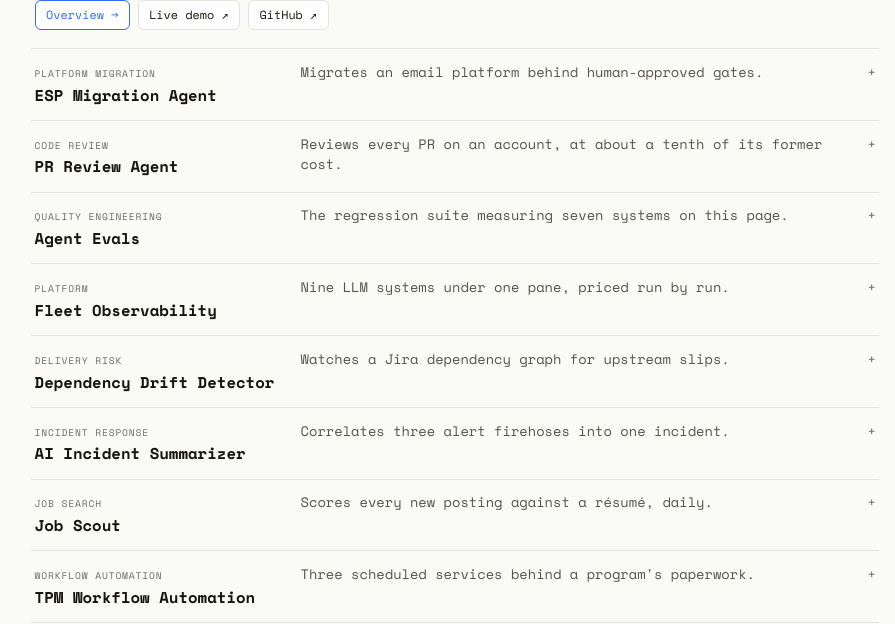
Test: ProjectIndex › keeps the smallest app visible rather than a zero-width bar
(page scrolled)
Click the button "Fleet Observability".
click(455, 300)  # box top-left (31, 264), bottom-right (879, 335)
(page scrolled)
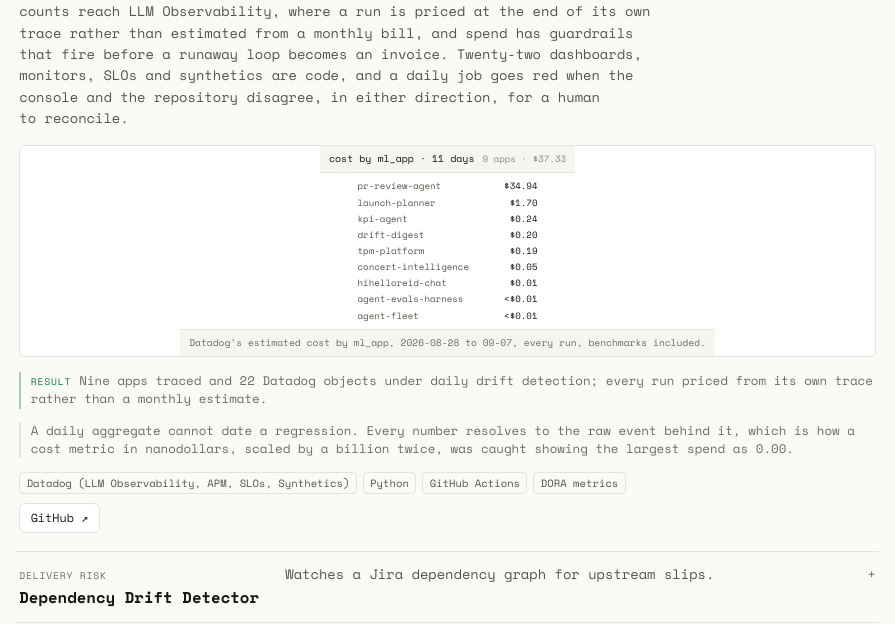
Now the text "<$0.01" next to "agent-evals-harness" is shown, box top-left (504, 292), bottom-right (538, 306)
